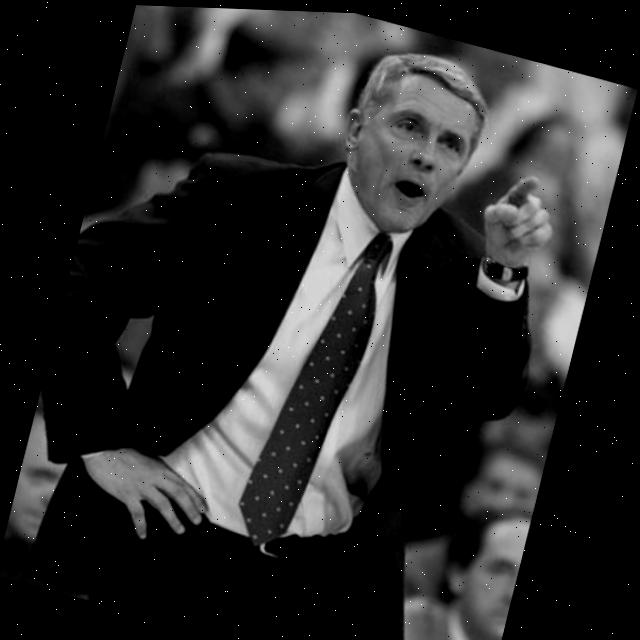face: (321, 38, 507, 250)
